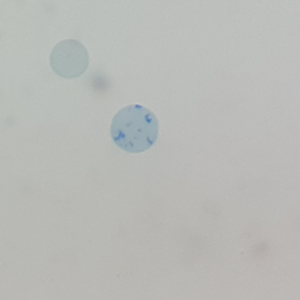aggregate reticulocyte: (108, 101, 161, 155)
erythrocyte: (48, 38, 91, 81)
